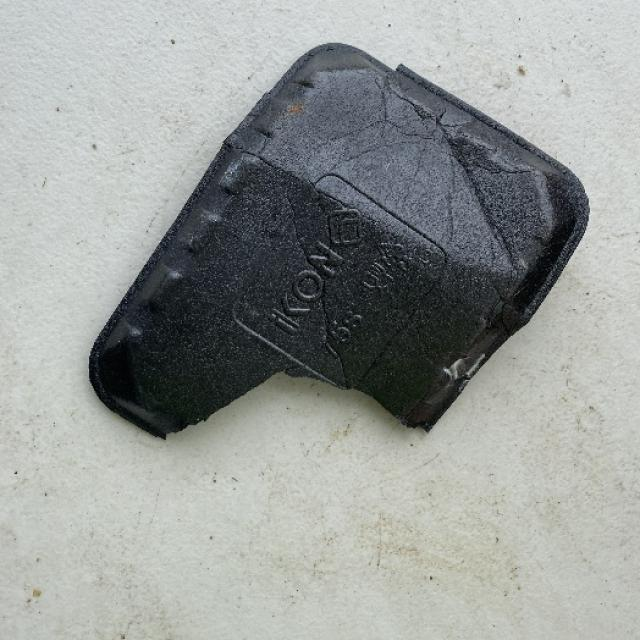styrofoam: (85, 39, 590, 442)
